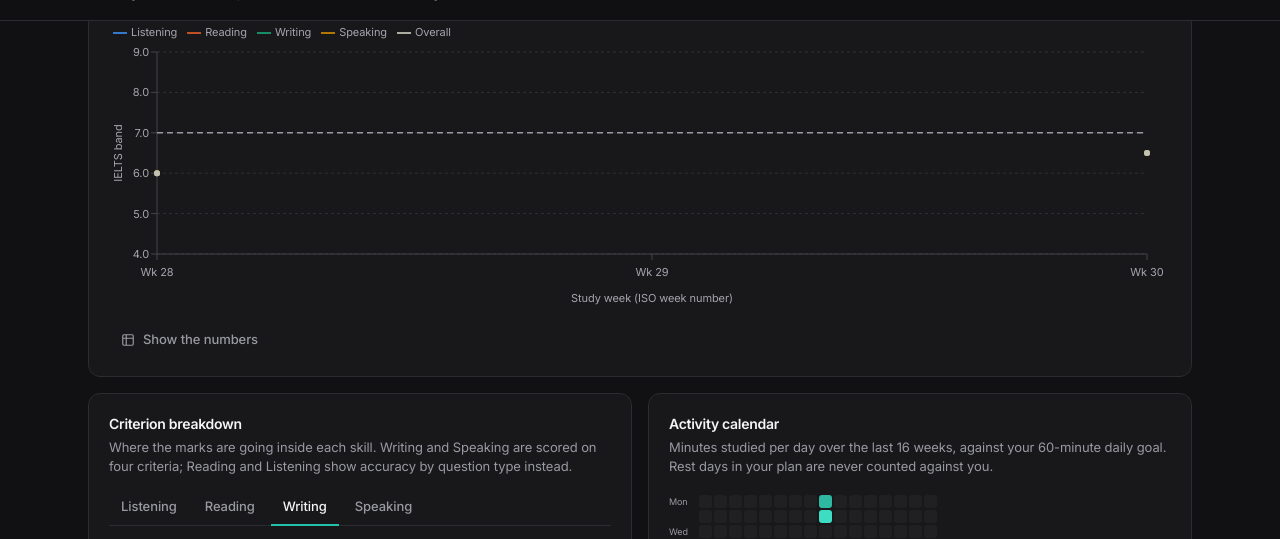
Scenario: progress screen › offers the trajectory numbers as a table, with insufficient weeks blank
The image size is (1280, 539).
(page scrolled)
Click the button "Show the numbers" at (190, 340), box [109,324,270,356]
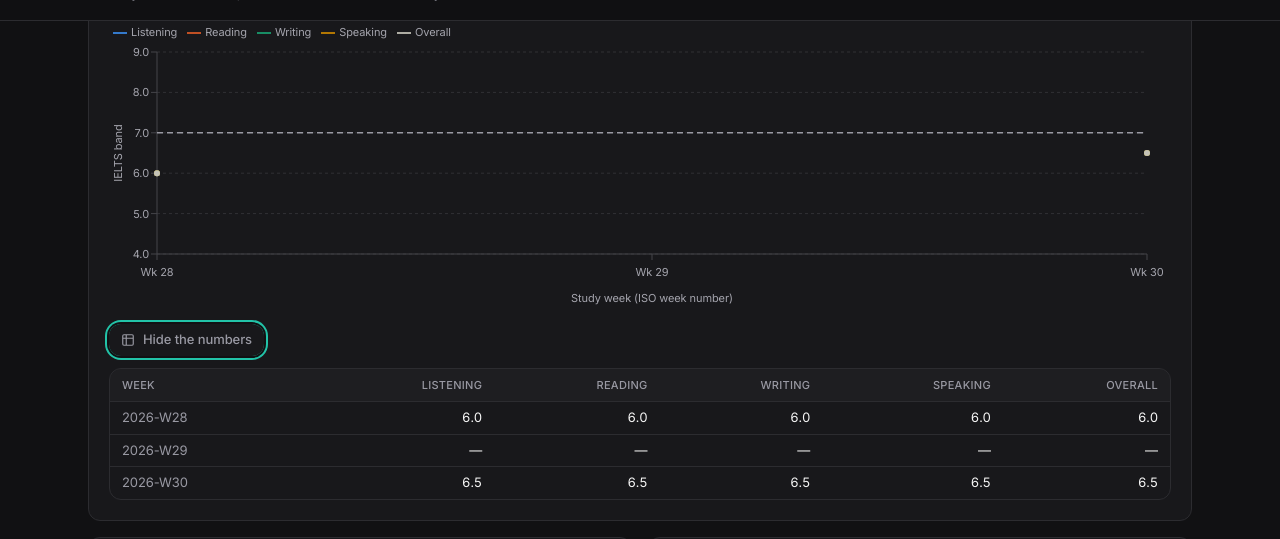
Check: the column heading "2026-W29" is shown, box [110,434,308,466]
Check: the 1st text "—" is shown, box [308,434,494,466]
